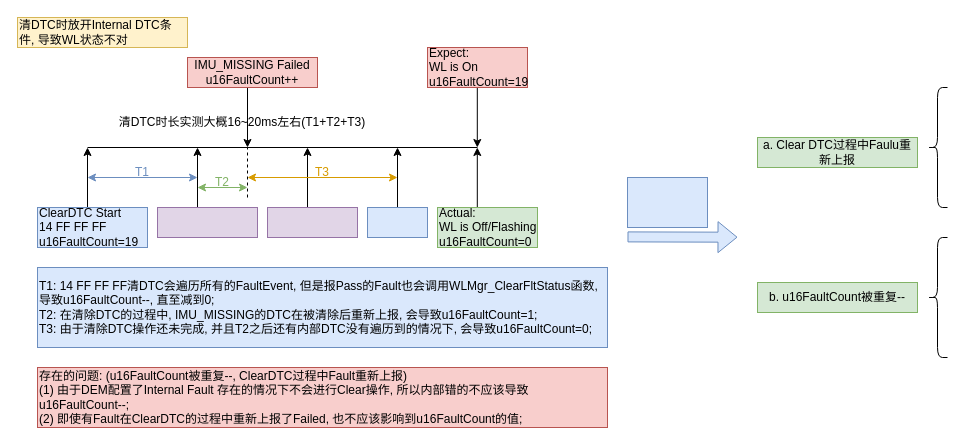
The diagram is 965 pixels wide and 445 high, and some of its shapes have lost their labels. Each missing label, with the box of its shape:
Clear Extenal DTC会有影响吗?: (626, 176, 708, 228)
ClearDTC End: (366, 206, 428, 238)
u16FaultCount--: (266, 206, 358, 238)
u16FaultCount=0: (156, 206, 258, 238)
